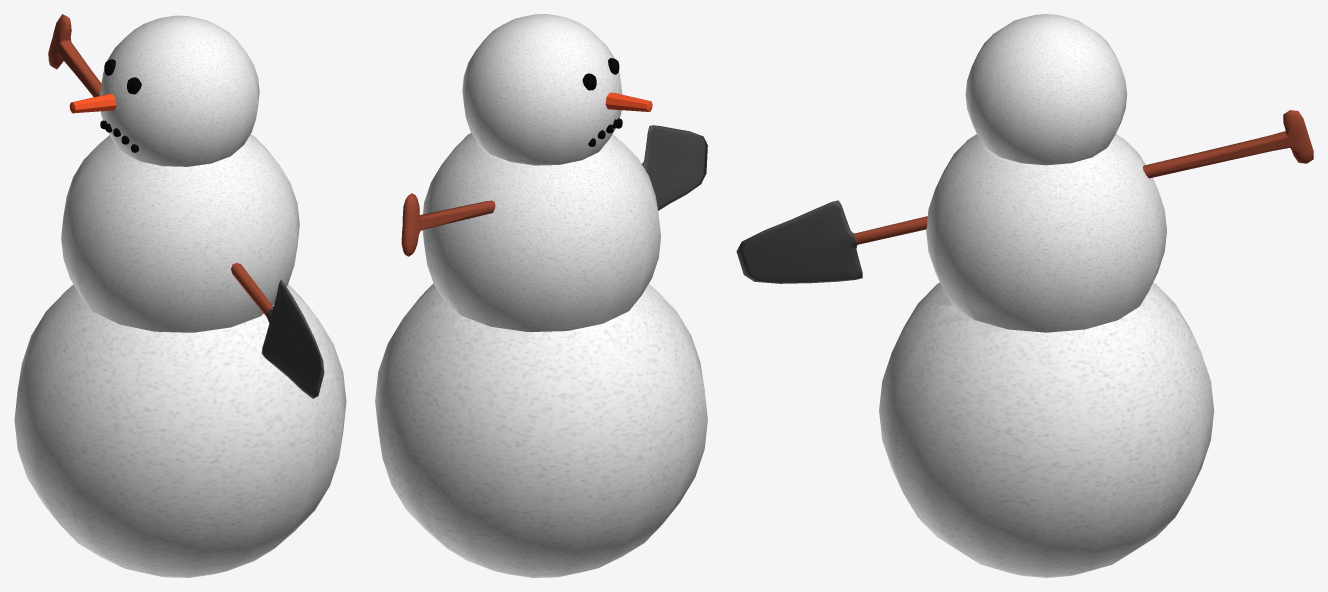
File: snemand.fbx
3 views of the same model, side by side, from view 1: azimuth 30°, elevation 25°; view 2: azimuth 150°, elevation 25°; view 3: azimuth 270°, elevation 25° (orthographic).
Visible parts, largest first — view 1: pSphere13; view 2: pSphere13; view 3: pSphere13.
Part boxes in pixels (<box>): pSphere13: <box>14,14,346,577</box>; pSphere13: <box>375,14,707,577</box>; pSphere13: <box>736,14,1313,577</box>.
Size of the model in its own units: 4.61 by 8.2 by 7.94.
